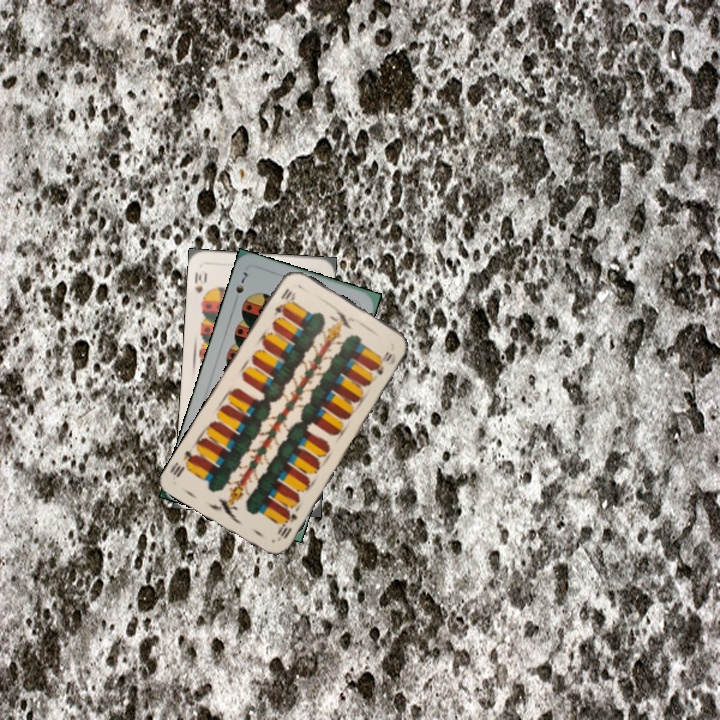E10: (270, 284, 298, 318), (273, 507, 300, 541)
S10: (190, 268, 209, 305)
S7: (232, 268, 251, 296)
